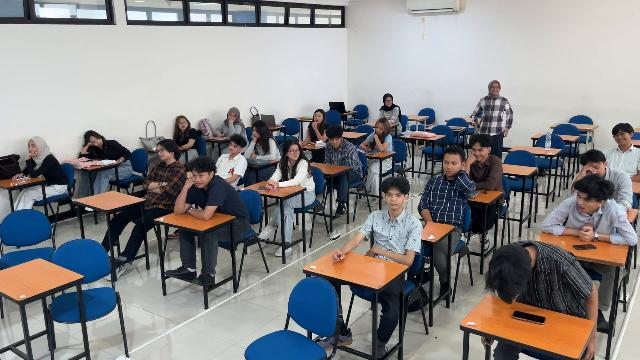bosan: (576, 191, 593, 213), (386, 189, 403, 209), (443, 156, 459, 176), (191, 169, 206, 188), (584, 164, 605, 176), (471, 145, 486, 161), (614, 132, 630, 145), (157, 144, 169, 160), (289, 145, 300, 160), (90, 135, 103, 146), (329, 138, 341, 148), (229, 142, 239, 153), (28, 141, 37, 153), (179, 118, 188, 130), (252, 126, 260, 138), (314, 112, 322, 123), (376, 124, 383, 135), (228, 112, 236, 121)
